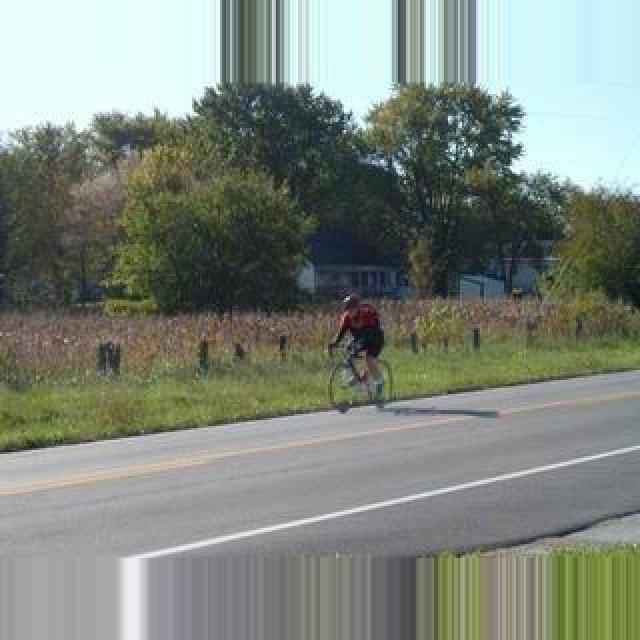MC-Bike: (326, 294, 386, 392)
Person: (329, 340, 393, 414)
